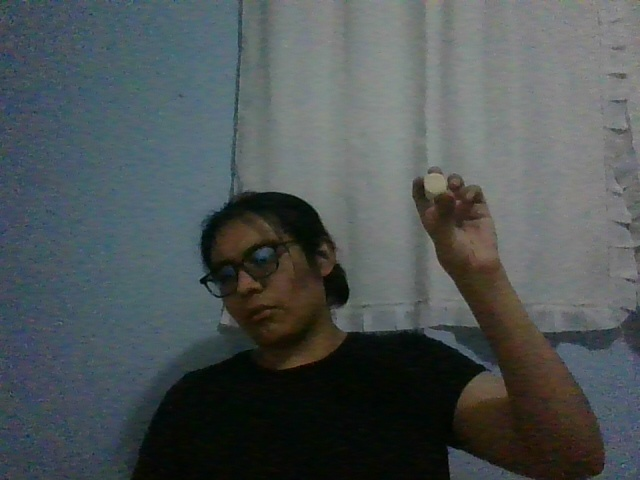goma: (423, 172, 447, 200)
